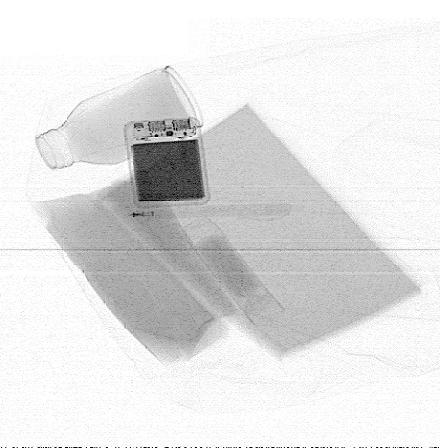Powerbank: (124, 116, 212, 208)
